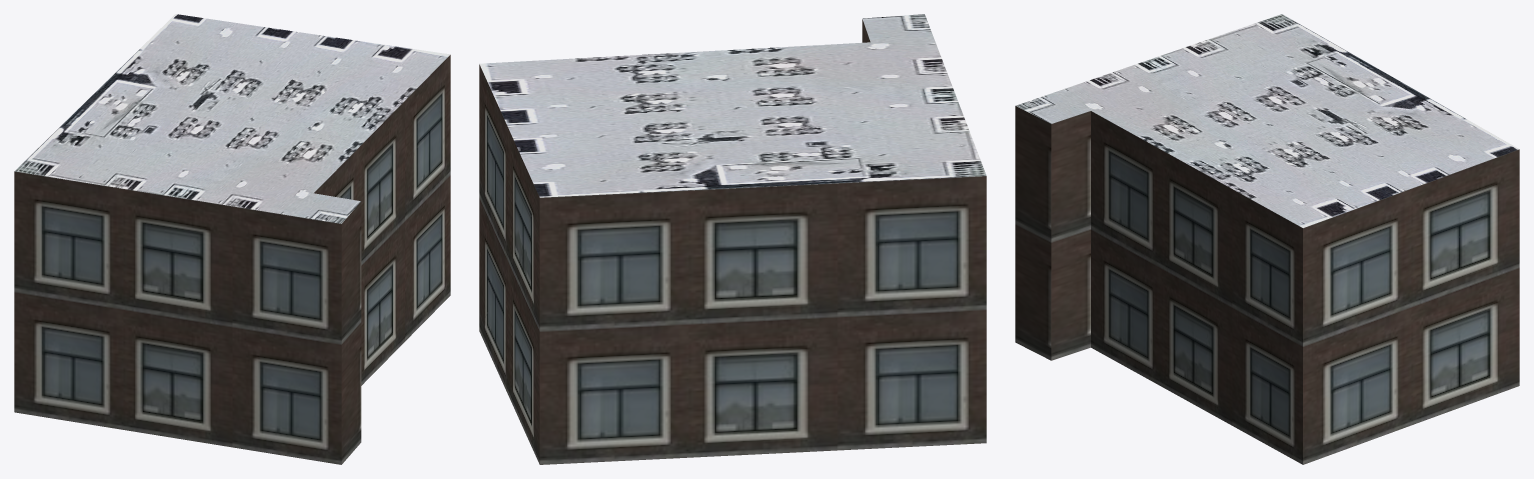
Rendered from ResTex__32.fbx.
3 views of the same model, side by side, from view 1: azimuth 30°, elevation 25°; view 2: azimuth 150°, elevation 25°; view 3: azimuth 270°, elevation 25° (orthographic). The views are drawn at different scales.
Parts seen in each view (by area): view 1: CityEngineMaterial_16_m, CityEngineMaterial_15_m; view 2: CityEngineMaterial_16_m, CityEngineMaterial_15_m; view 3: CityEngineMaterial_16_m, CityEngineMaterial_15_m.
Boxes of the visible parts, x1=… form: CityEngineMaterial_16_m: x1=14, y1=55, x2=450, y2=464; CityEngineMaterial_15_m: x1=15, y1=14, x2=450, y2=223; CityEngineMaterial_16_m: x1=479, y1=19, x2=986, y2=464; CityEngineMaterial_15_m: x1=479, y1=14, x2=986, y2=197; CityEngineMaterial_16_m: x1=1015, y1=106, x2=1519, y2=464; CityEngineMaterial_15_m: x1=1016, y1=14, x2=1518, y2=227.
Size of the model in its own units: 11.64 by 6 by 11.58.
2 materials, 2 textured.
